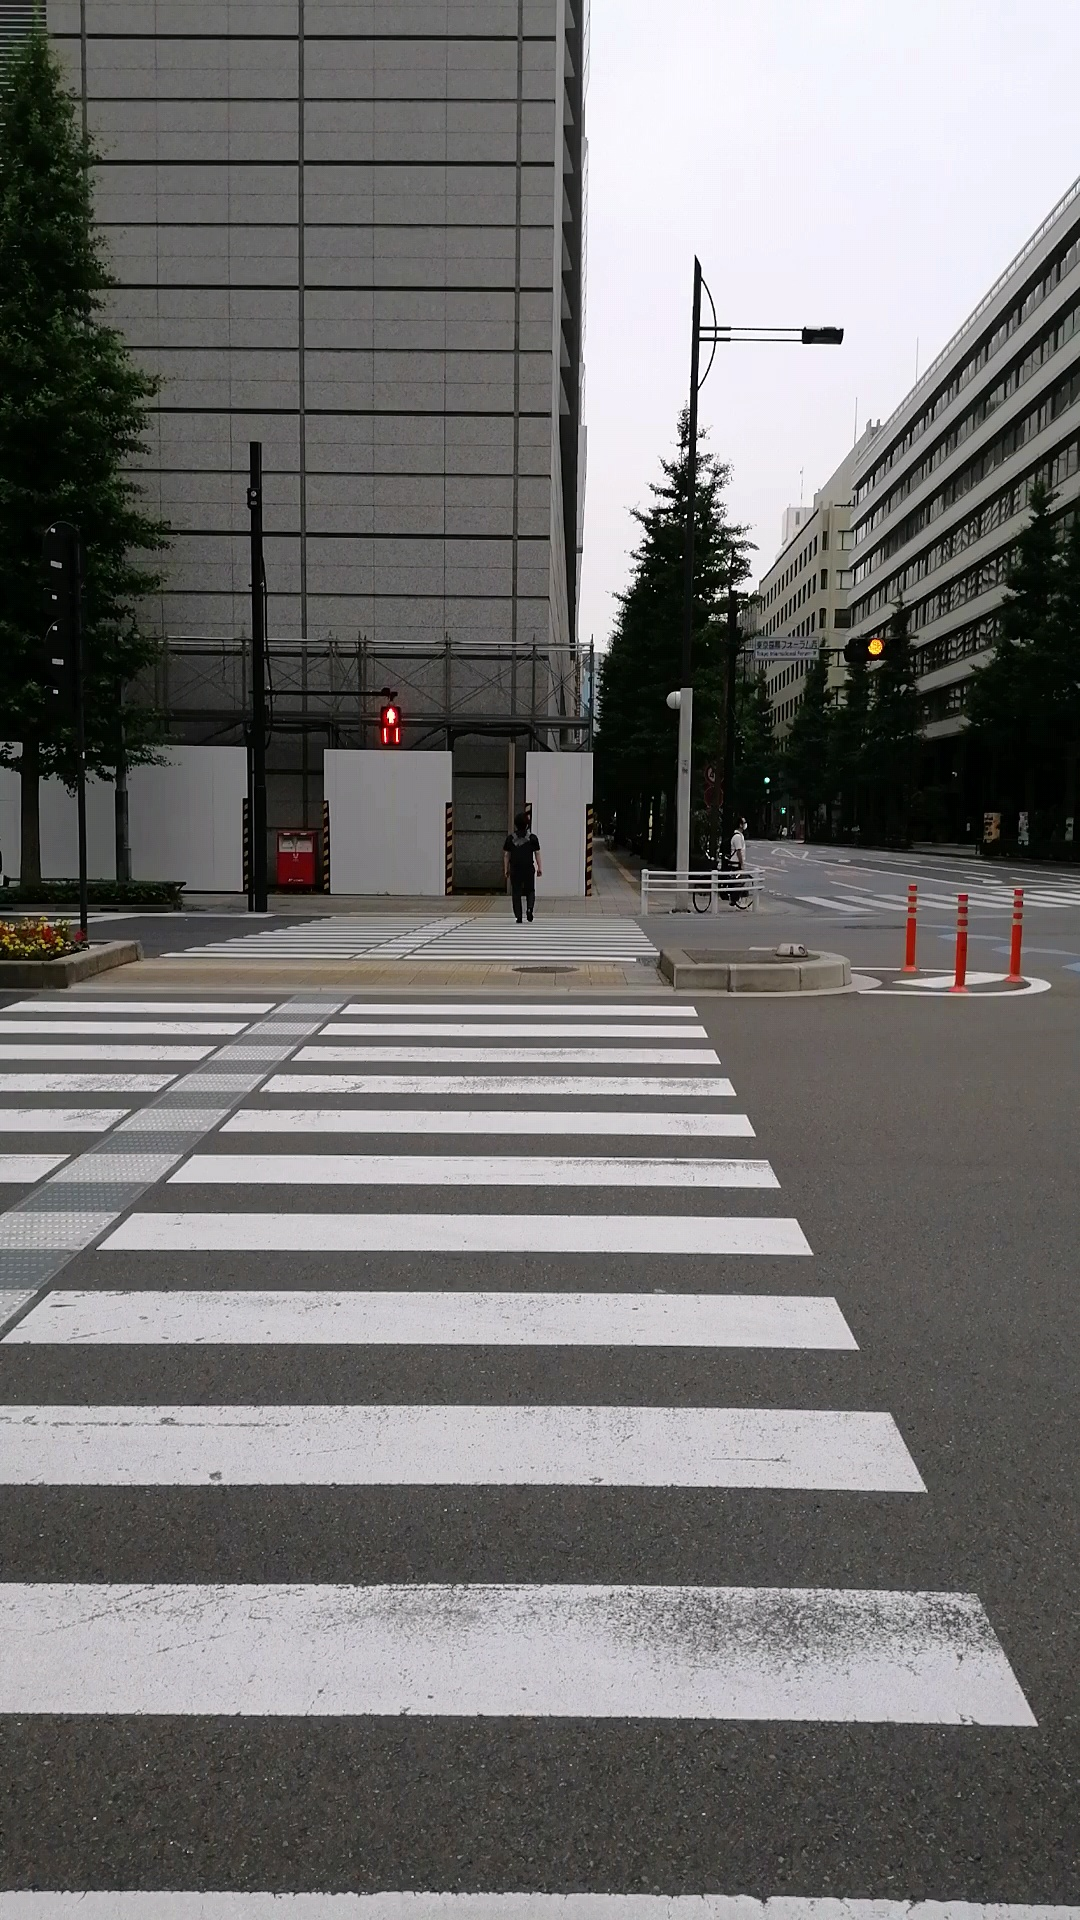red: (378, 703, 402, 748)
